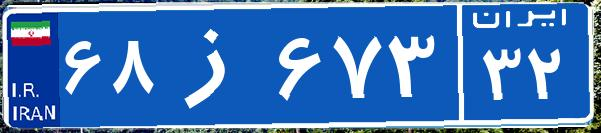2: (525, 38, 570, 115)
3: (385, 28, 445, 110), (475, 38, 525, 113)
6: (273, 28, 330, 110), (57, 26, 110, 107)
7: (330, 28, 385, 110)
8: (110, 28, 158, 105)
ز: (158, 15, 273, 115)
